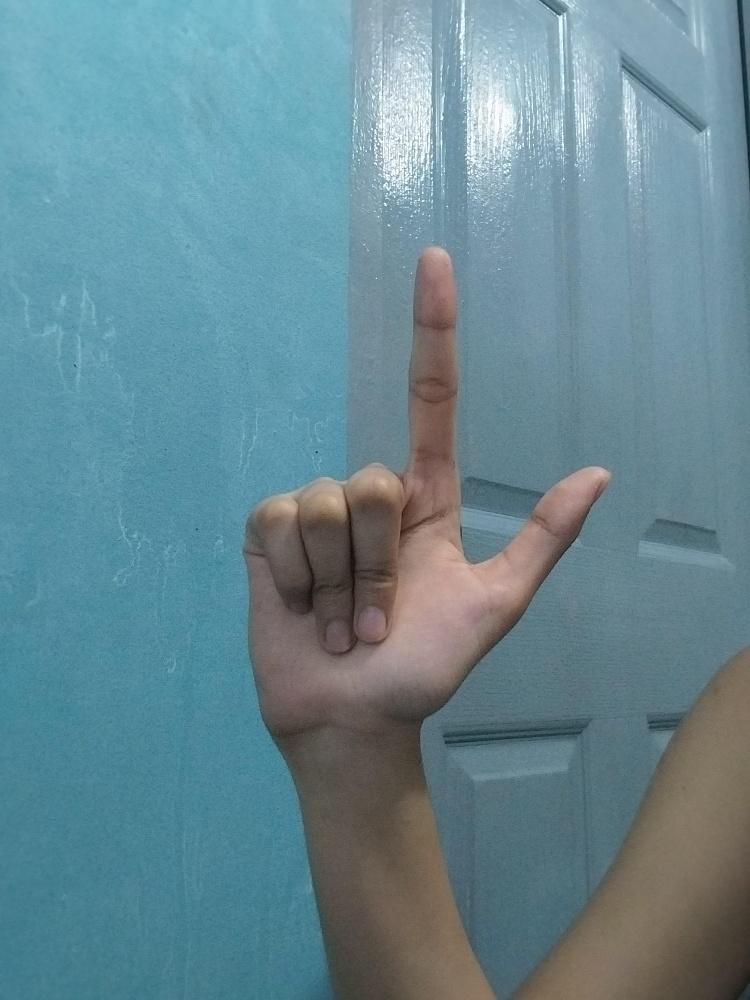l: (242, 244, 605, 727)
